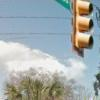traffic lights: (71, 0, 94, 61)
